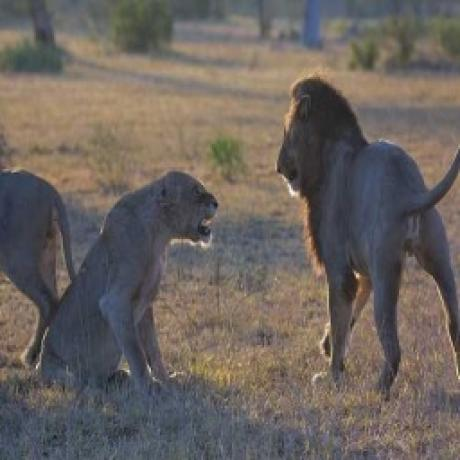Lion: (274, 77, 460, 394), (40, 165, 218, 382)
